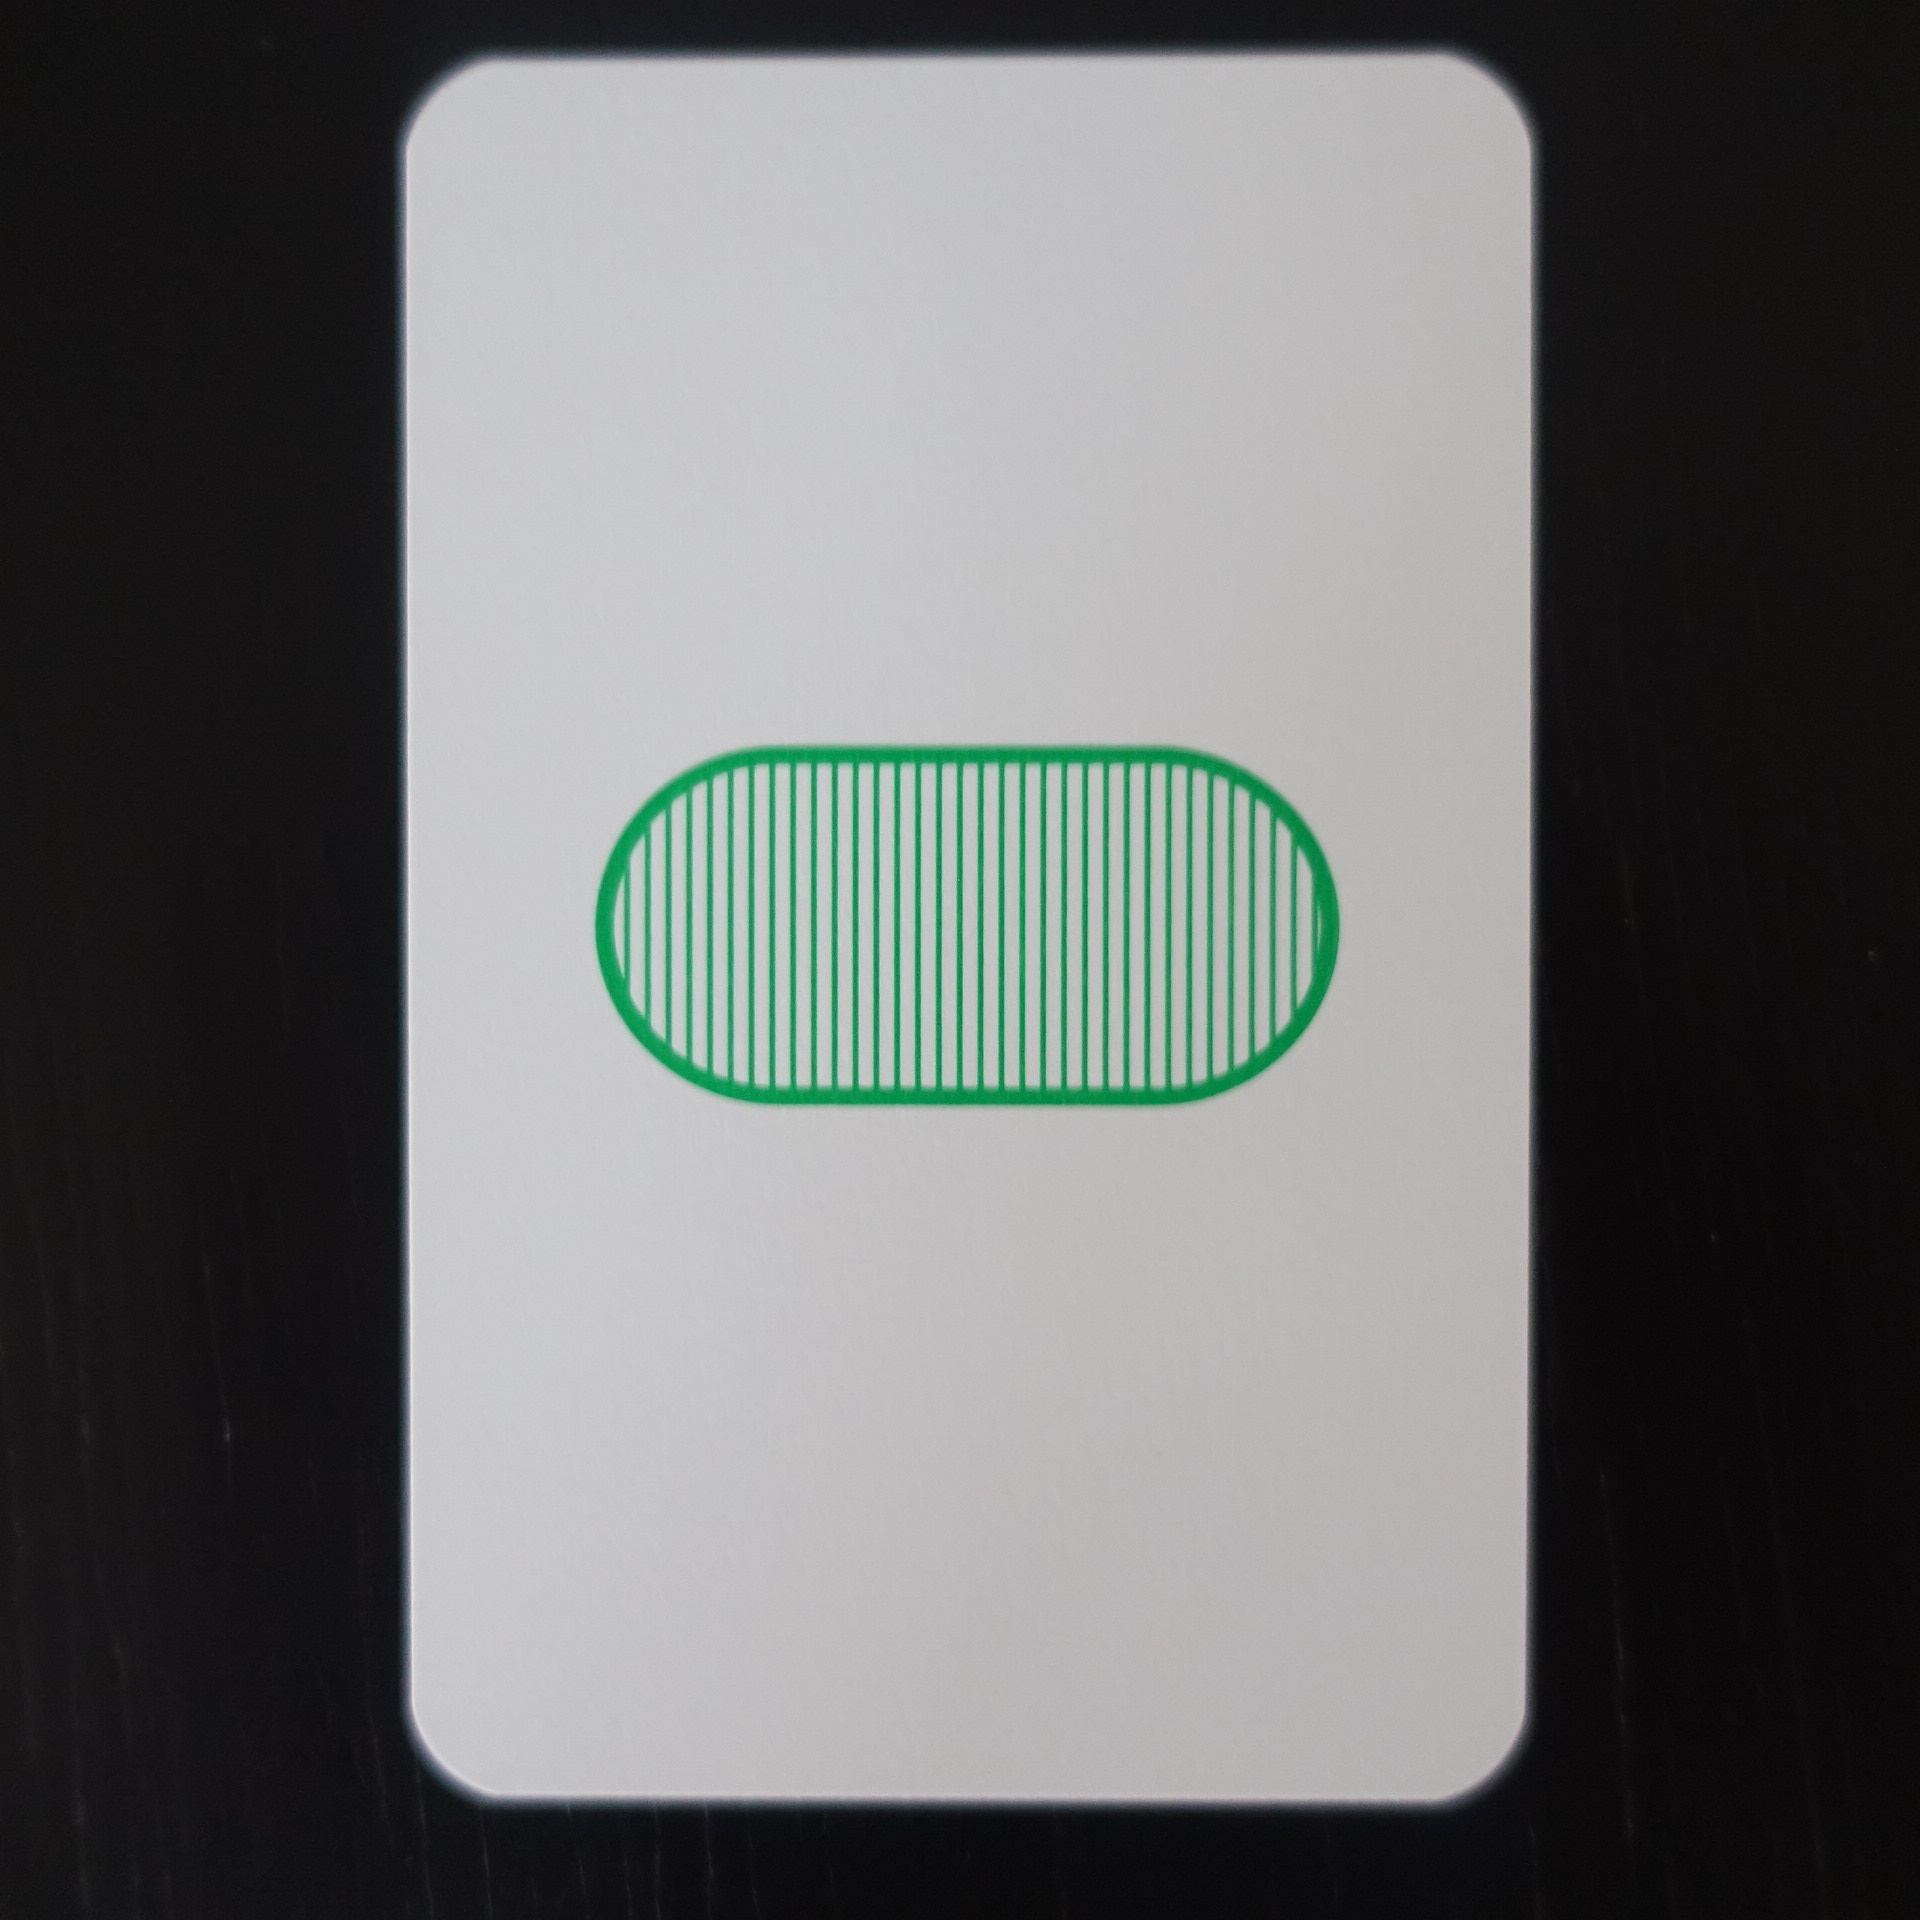c-1-h-o-g: (362, 37, 1565, 1836)
